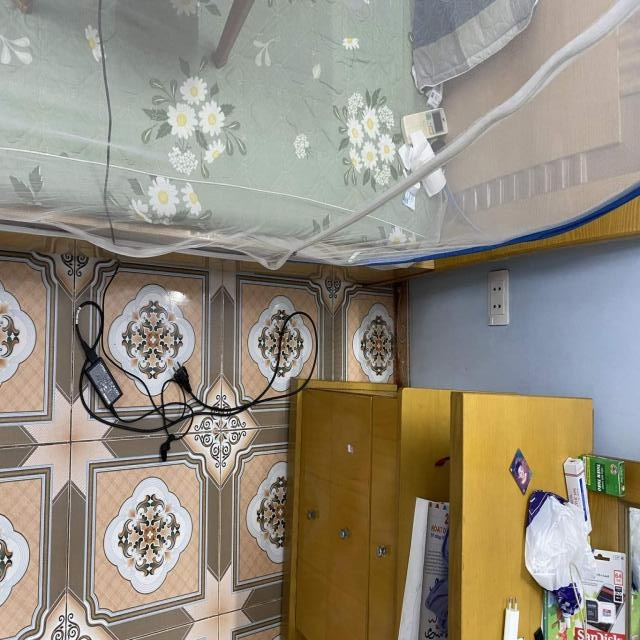outlet: (487, 268, 509, 325)
